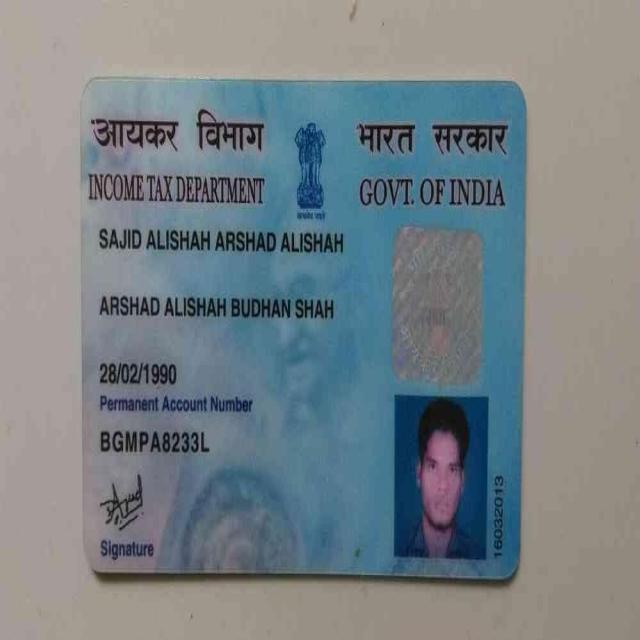pan_card: (85, 97, 516, 567)
